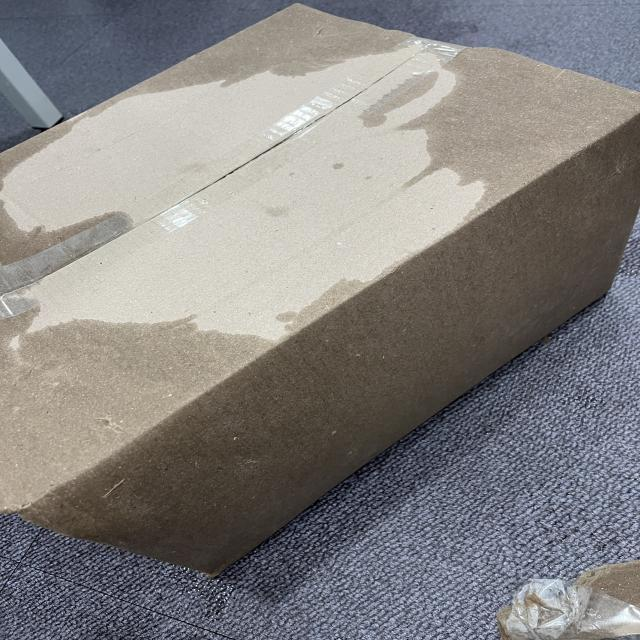wet: (0, 308, 282, 517), (430, 38, 640, 196), (172, 2, 386, 90)
